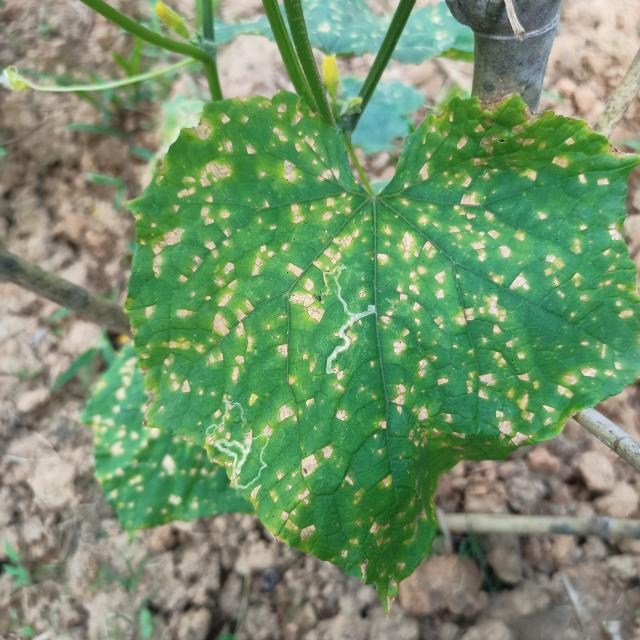disease_cucumber: (146, 106, 622, 540)
